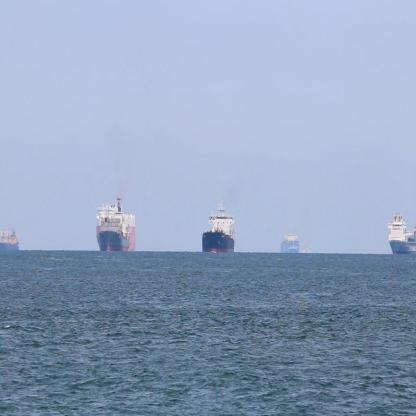Container Ship: (95, 192, 137, 254), (202, 193, 236, 253), (386, 210, 416, 255), (1, 226, 21, 252), (280, 231, 300, 254), (300, 244, 313, 256)
